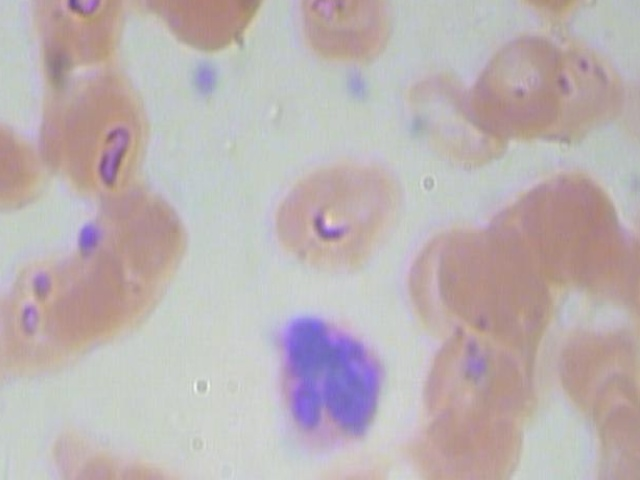Platelets: (185, 56, 227, 111), (332, 59, 373, 114)
RBC: (271, 148, 407, 278), (49, 67, 155, 209), (521, 163, 627, 295), (389, 64, 507, 174), (437, 225, 536, 335), (464, 32, 563, 141), (281, 0, 399, 74), (28, 0, 130, 67), (142, 0, 252, 58), (66, 445, 165, 480), (305, 449, 405, 480), (122, 457, 221, 480)
WBC: (267, 301, 396, 466)
